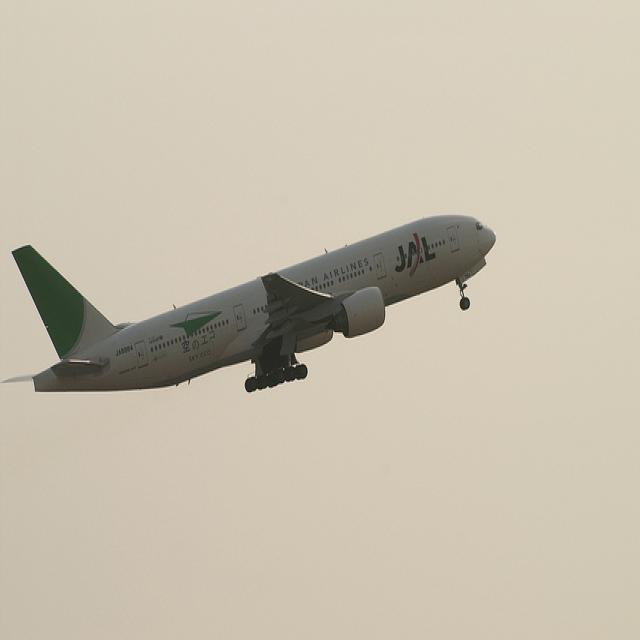airplane: (1, 210, 498, 396)
